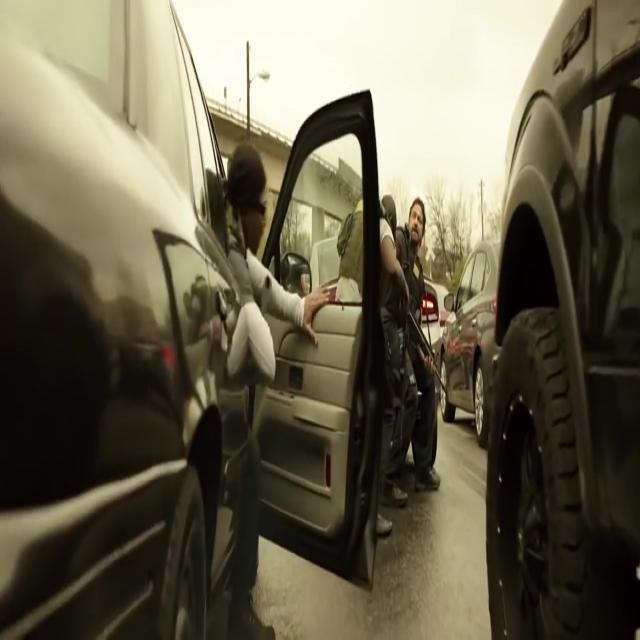Weapon: (393, 258, 451, 442)
